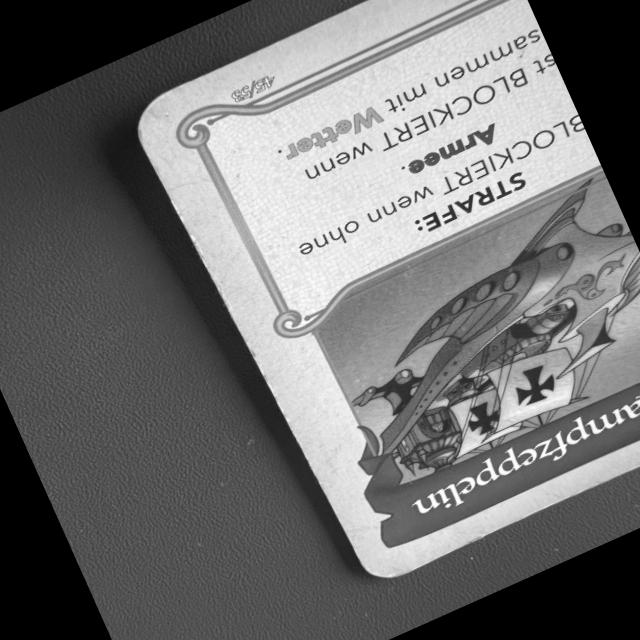War Dirigable: (118, 0, 640, 592)
